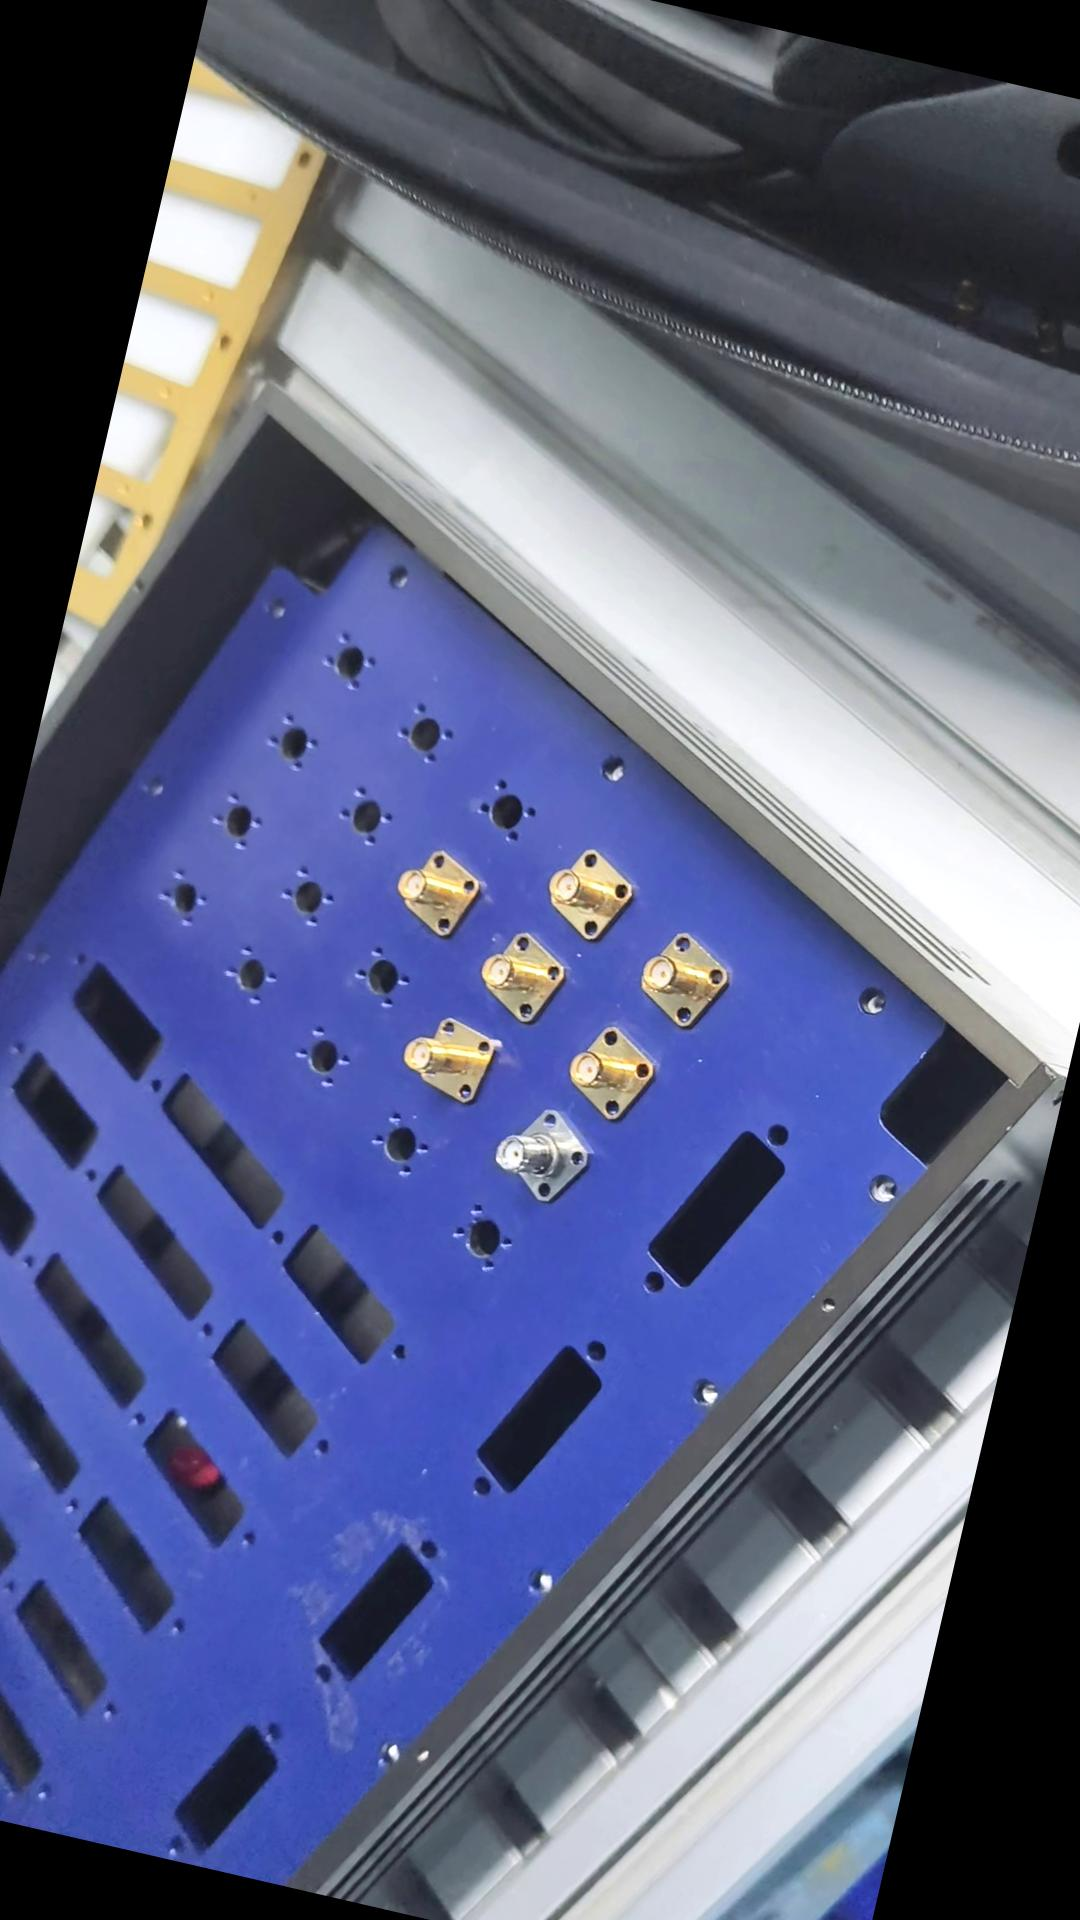SMA: (483, 1091, 605, 1215), (628, 916, 746, 1036), (549, 1010, 667, 1127), (463, 922, 575, 1033), (533, 837, 638, 943), (384, 840, 488, 947), (400, 1011, 501, 1106)
